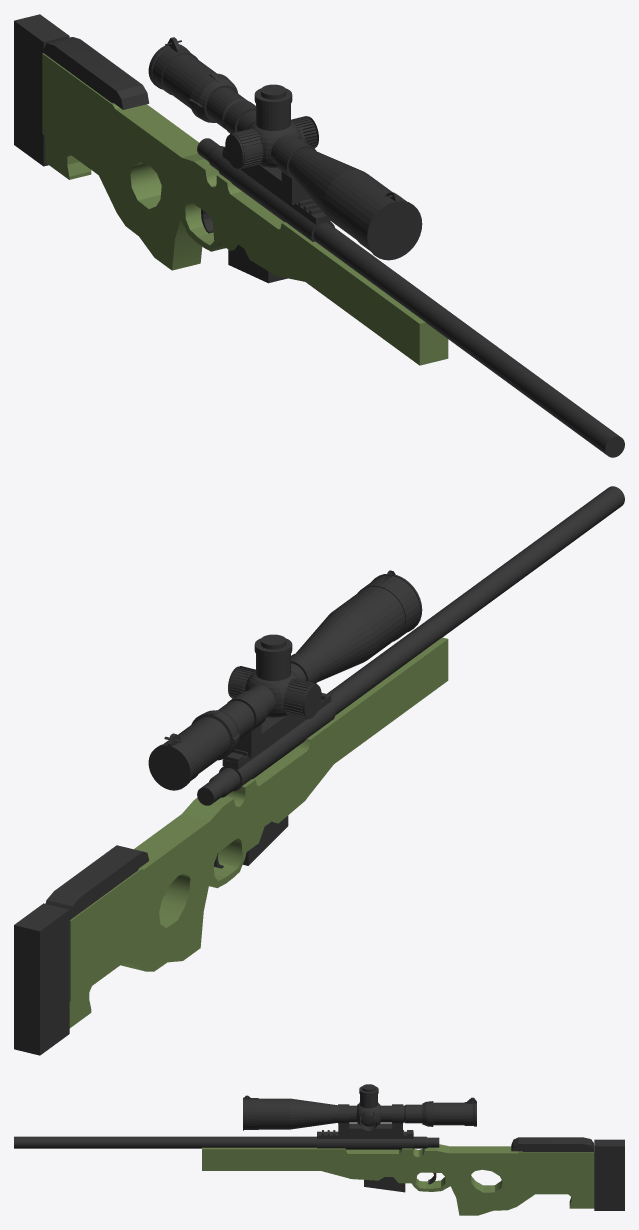
The model's file is AWP.fbx.
3 renders of one model, top to bottom at view 1: azimuth 30°, elevation 25°; view 2: azimuth 150°, elevation 25°; view 3: azimuth 270°, elevation 25°, orthographic. The views are drawn at different scales.
Parts seen in each view (by area): view 1: AWP; view 2: AWP; view 3: AWP.
Boxes of the visible parts, <box> form: AWP: <box>14,14,624,457</box>; AWP: <box>14,486,624,1055</box>; AWP: <box>14,1084,624,1215</box>.
Size of the model in its own units: 43.53 by 130 by 576.
